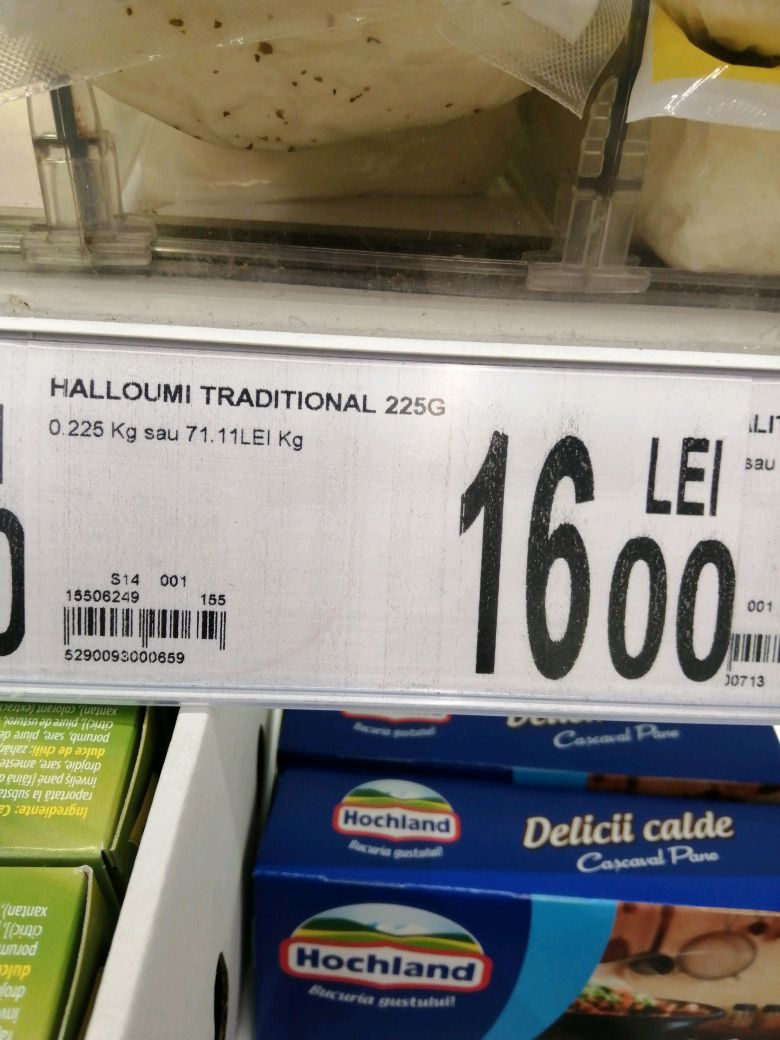price_bani: (607, 531, 741, 688)
price_lei: (443, 418, 599, 689)
price_tag: (11, 330, 780, 730)
product_id: (57, 643, 191, 673)
product_name: (33, 371, 468, 418)
